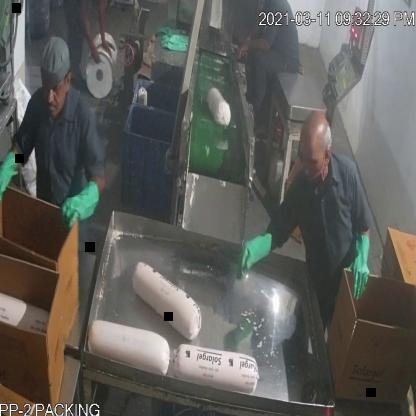glove: (55, 174, 116, 236), (227, 209, 275, 282), (347, 224, 377, 306), (0, 144, 26, 212)
no_glove: (78, 0, 99, 67), (231, 32, 274, 64), (95, 0, 115, 57)
